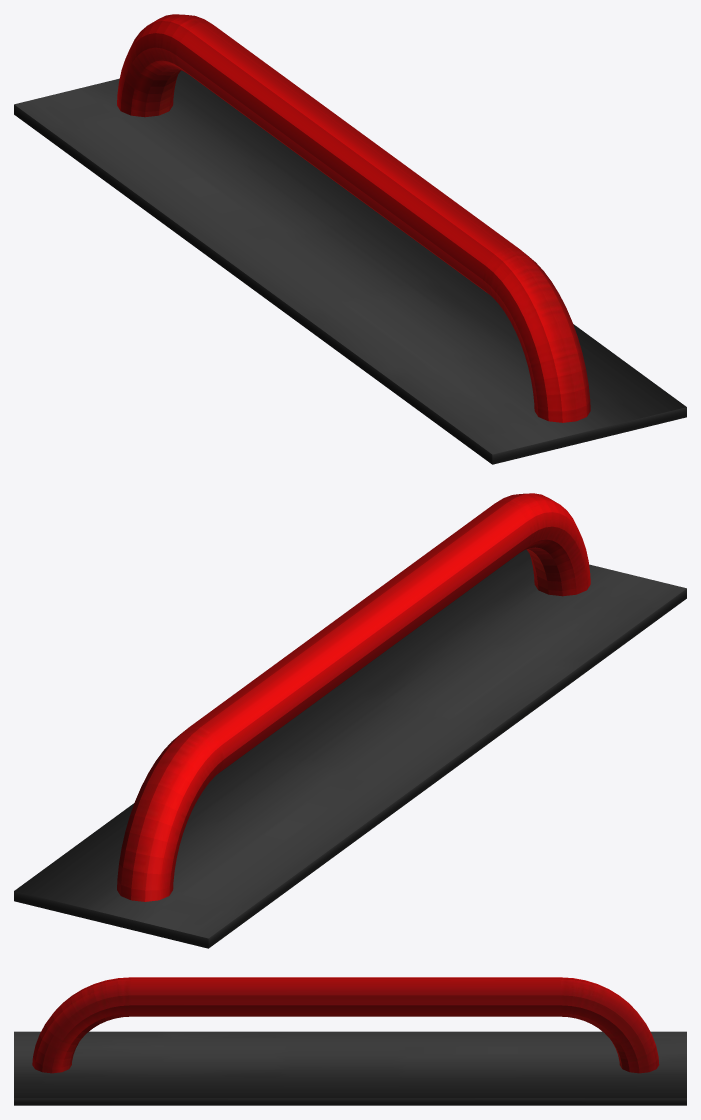
Rendered from Barra.fbx.
3 renders of one model, top to bottom at view 1: azimuth 30°, elevation 25°; view 2: azimuth 150°, elevation 25°; view 3: azimuth 270°, elevation 25°, orthographic. The views are drawn at different scales.
Visible parts, largest first — view 1: Torus.001; view 2: Torus.001; view 3: Torus.001.
Part boxes in pixels (left/top/right/bottom): Torus.001: left=14, top=14, right=686, bottom=464; Torus.001: left=14, top=493, right=686, bottom=948; Torus.001: left=14, top=977, right=686, bottom=1105.
Bounding box in the file's own units: 200 × 130 × 852.
Materials: 2 (2 with a texture image).
